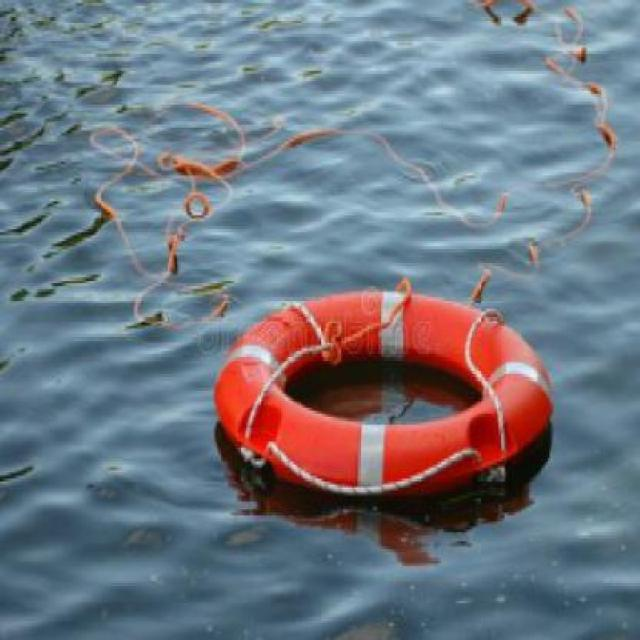a: (193, 269, 560, 511)
